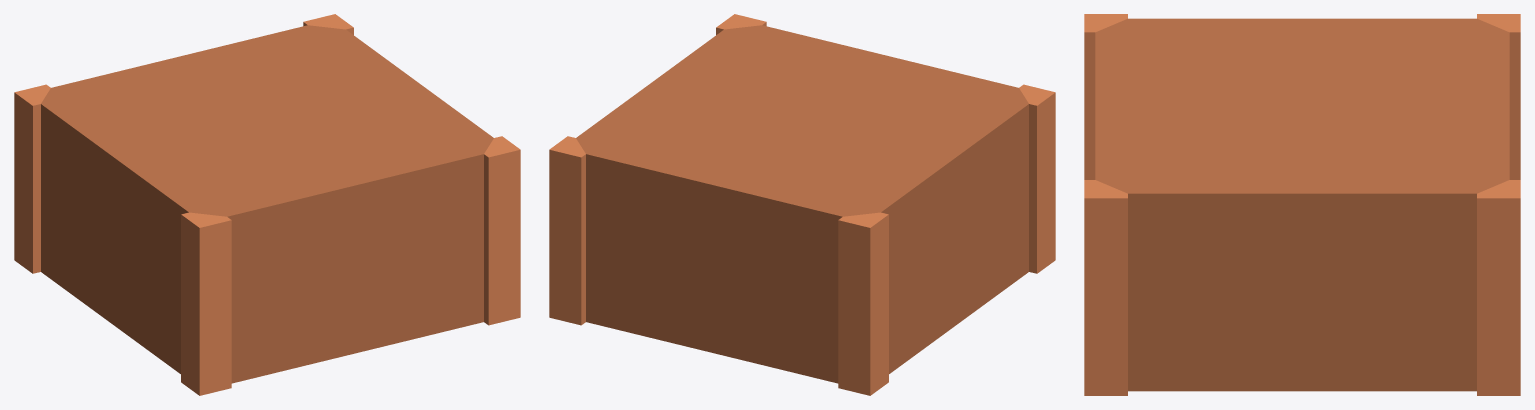
File: wallWoodBlockHalf.fbx
The picture shows the model from 3 angles, left to right: view 1: azimuth 30°, elevation 25°; view 2: azimuth 150°, elevation 25°; view 3: azimuth 270°, elevation 25°; orthographic projection. The views are drawn at different scales.
Parts seen in each view (by area): view 1: wallWoodBlockHalf; view 2: wallWoodBlockHalf; view 3: wallWoodBlockHalf.
Boxes of the visible parts, x1,y1,x2,y2 form: wallWoodBlockHalf: (14, 14, 520, 395); wallWoodBlockHalf: (549, 14, 1055, 395); wallWoodBlockHalf: (1084, 14, 1520, 395).
Size of the model in its own units: 10 by 5 by 10.
